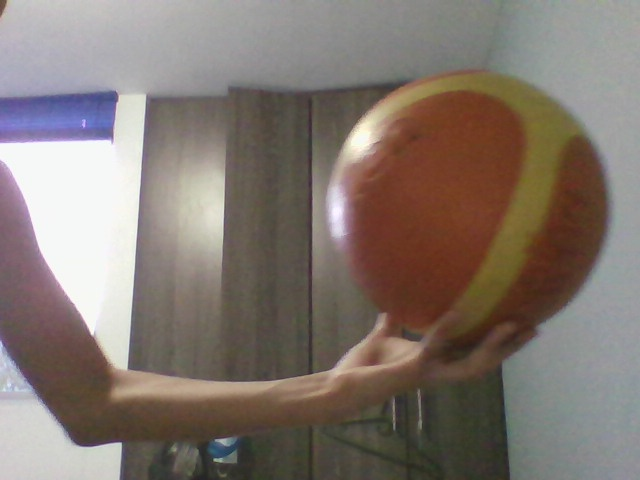balon: (324, 63, 615, 350)
